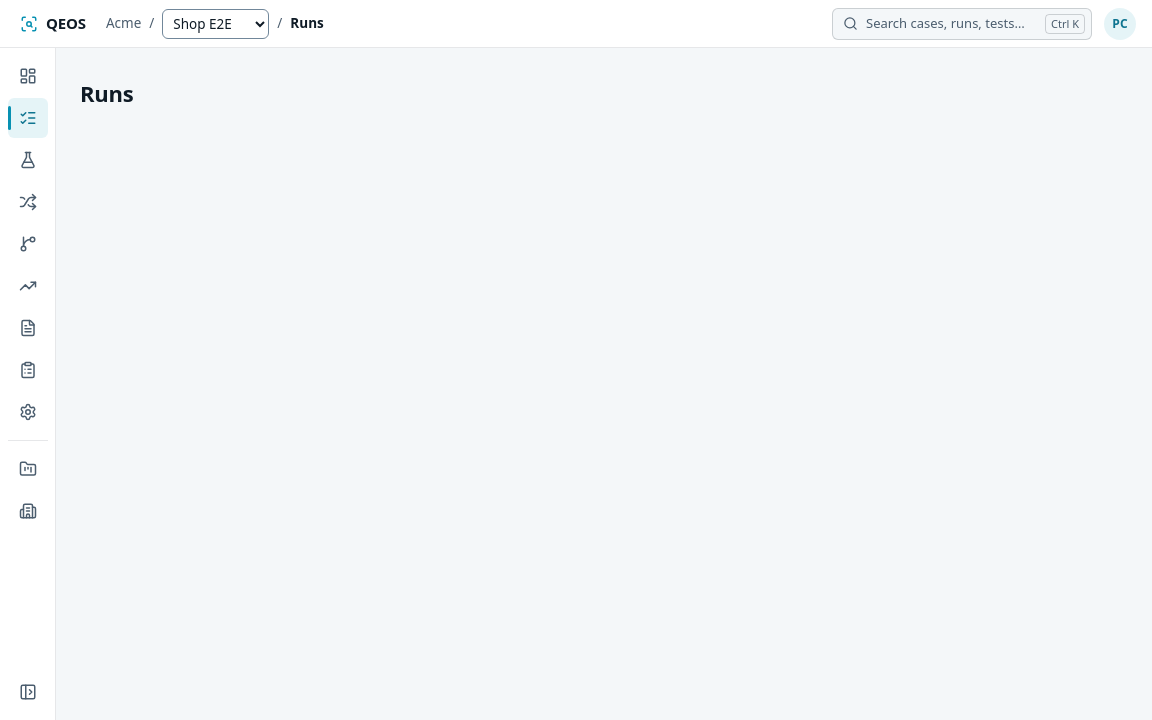
Scenario: user menu › Tab moves through the items in order; Escape closes and returns focus to the avatar
Click the button with aria-label "account menu". click: (1120, 24)
box: [1104, 8, 1136, 40]
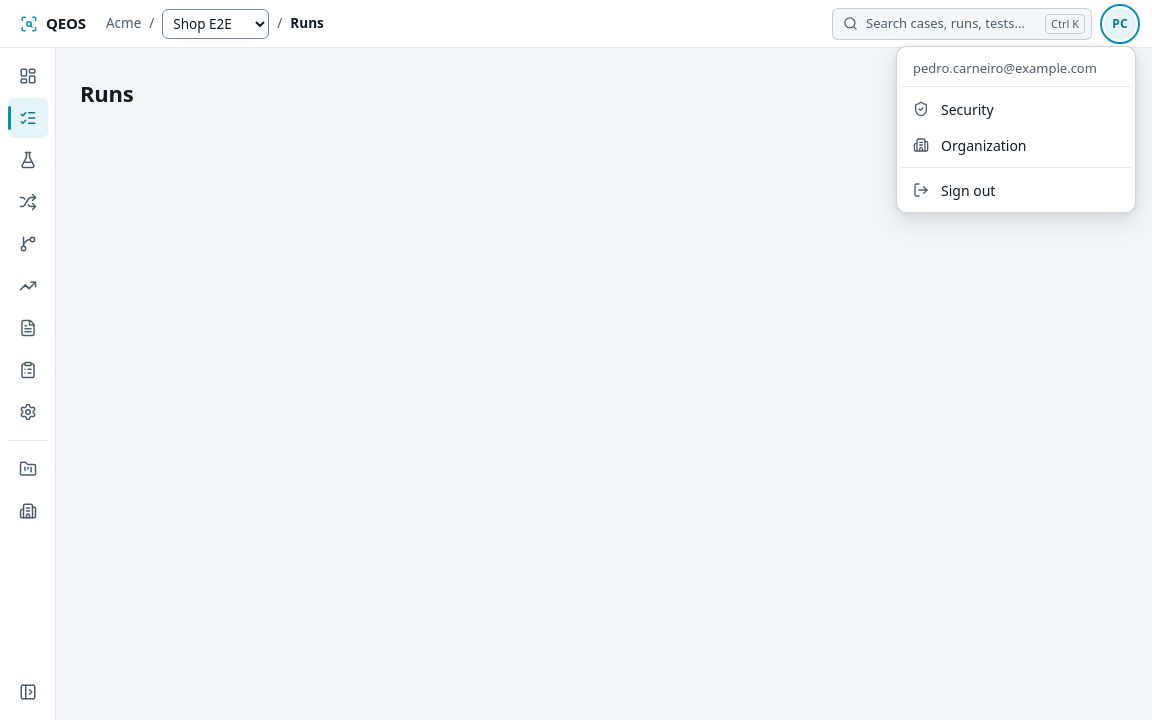
Expected: the link "Organization" is shown, [913, 136, 1026, 154]
Press Tab
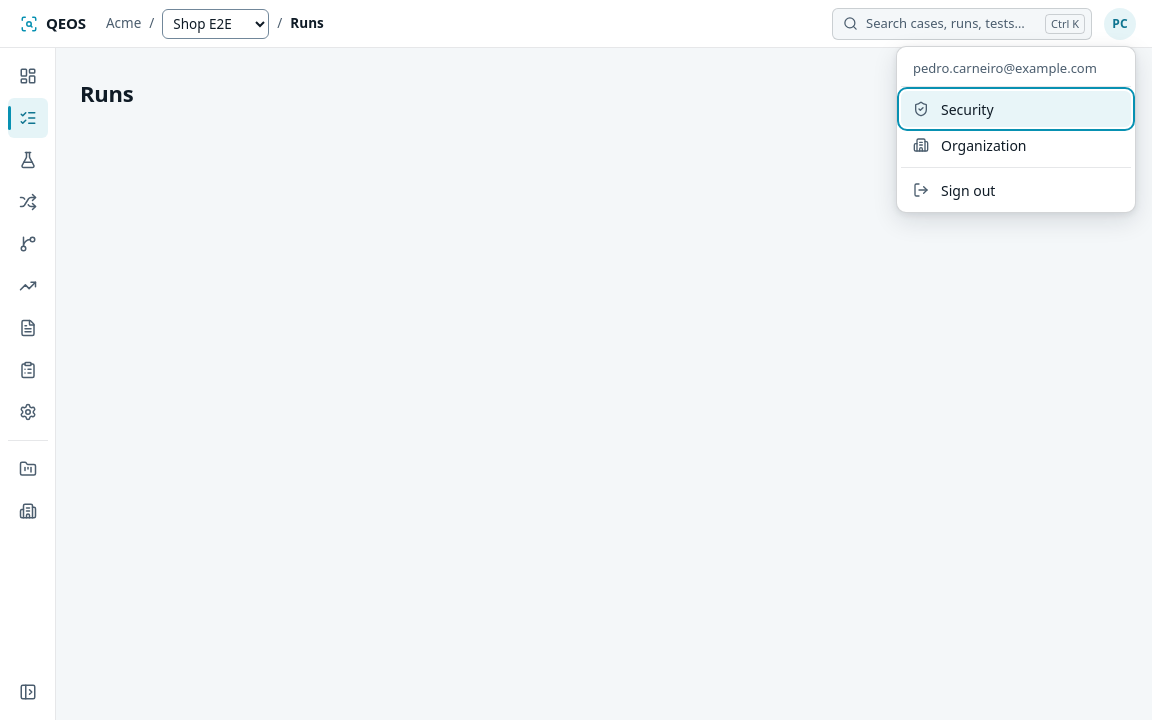
Press Tab
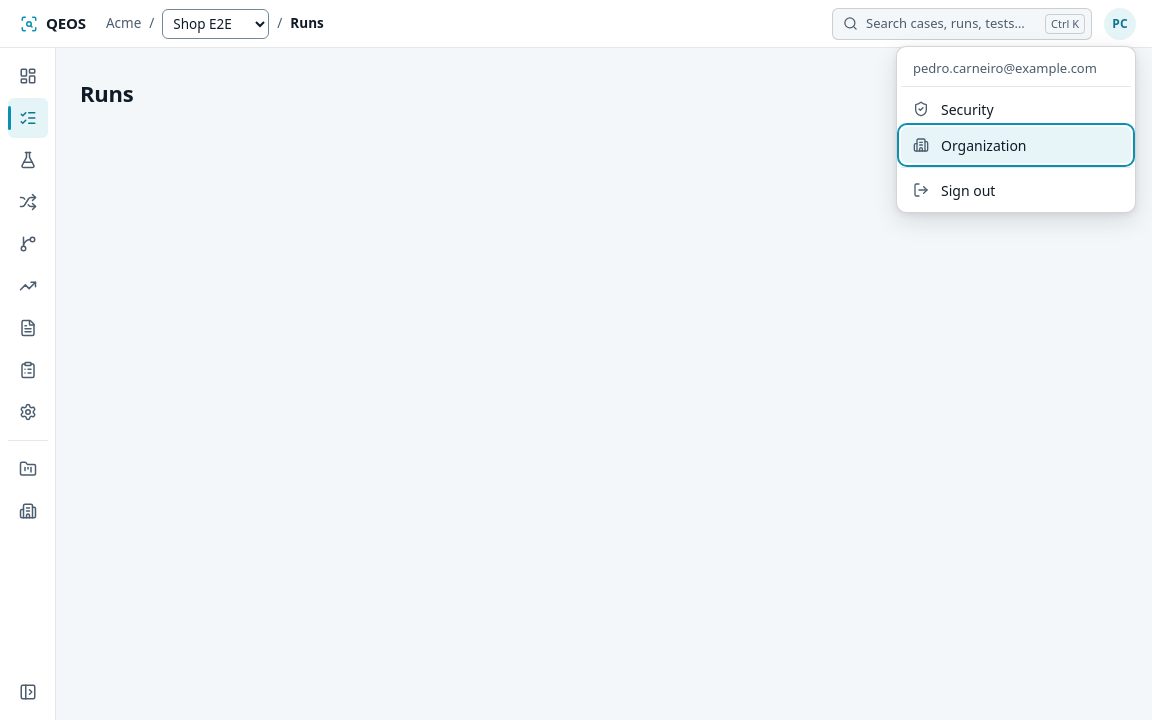
Press Escape
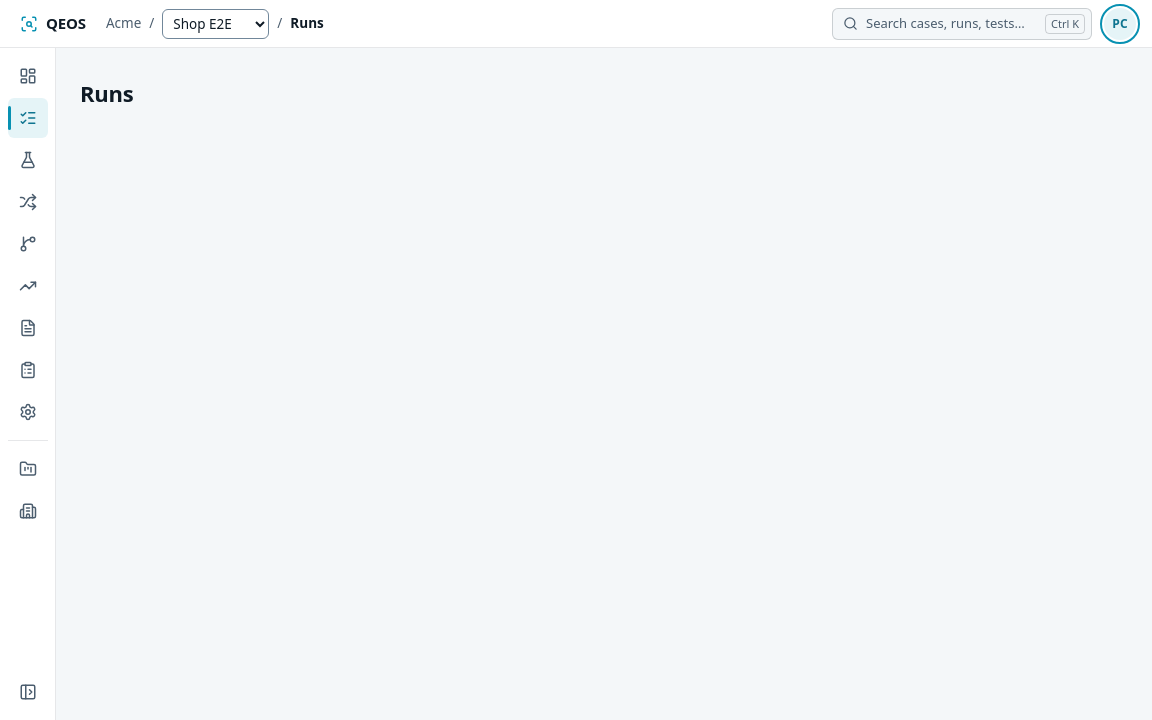
Expected: the element with id "user-menu-popup" is gone
